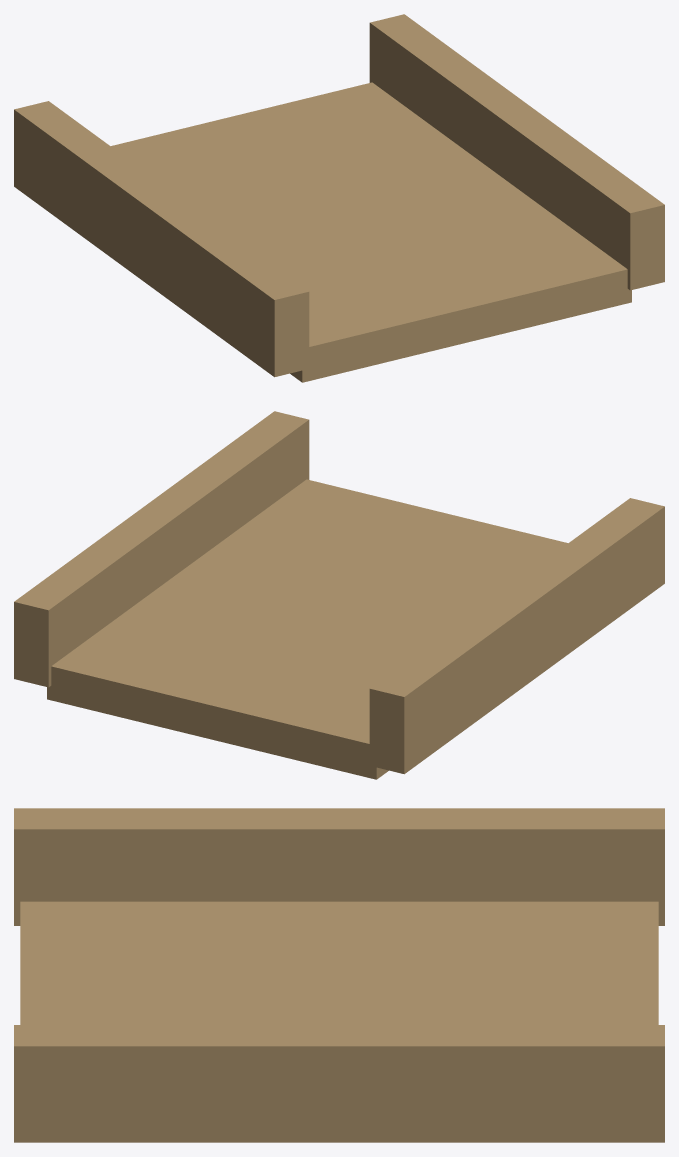
File: road_bridge.glb
3 renders of one model, top to bottom at view 1: azimuth 30°, elevation 25°; view 2: azimuth 150°, elevation 25°; view 3: azimuth 270°, elevation 25°, orthographic. The views are drawn at different scales.
Parts seen in each view (by area): view 1: road_bridge; view 2: road_bridge; view 3: road_bridge.
Boxes of the visible parts, bbox=[...] form: road_bridge: bbox=[14, 14, 664, 382]; road_bridge: bbox=[14, 411, 664, 779]; road_bridge: bbox=[14, 808, 664, 1142].
Size of the model in its own units: 0.9 by 0.2025 by 1.04.
